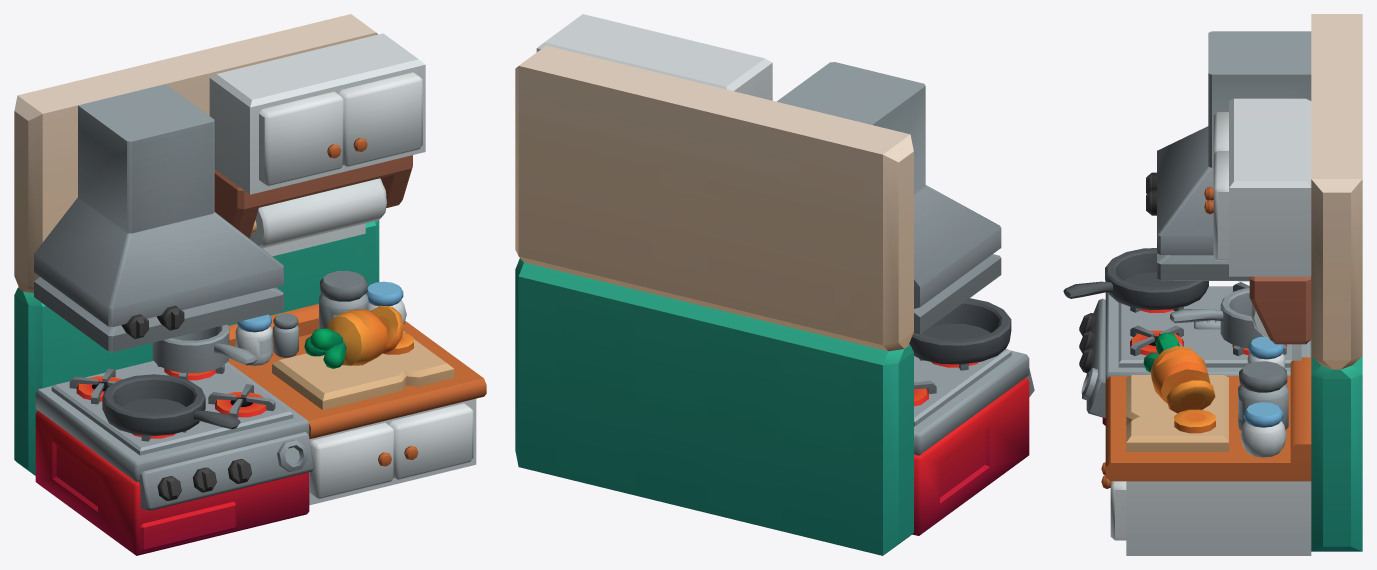
The model's file is kaykit-restaurant-bits-wall-decorated.glb.
3 renders of one model, left to right at view 1: azimuth 30°, elevation 25°; view 2: azimuth 150°, elevation 25°; view 3: azimuth 270°, elevation 25°, orthographic. The views are drawn at different scales.
Parts seen in each view (by area): view 1: wall_decorated; view 2: wall_decorated; view 3: wall_decorated.
Boxes of the visible parts, x1,y1,x2,y2 form: wall_decorated: (14,14,486,555); wall_decorated: (515,14,1034,555); wall_decorated: (1063,14,1362,555).
Bounding box in the file's own units: 4.01 × 4 × 2.91.
Materials: 1 (1 with a texture image).
